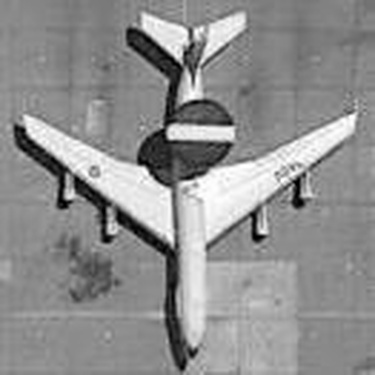airplane: (8, 4, 363, 367)
